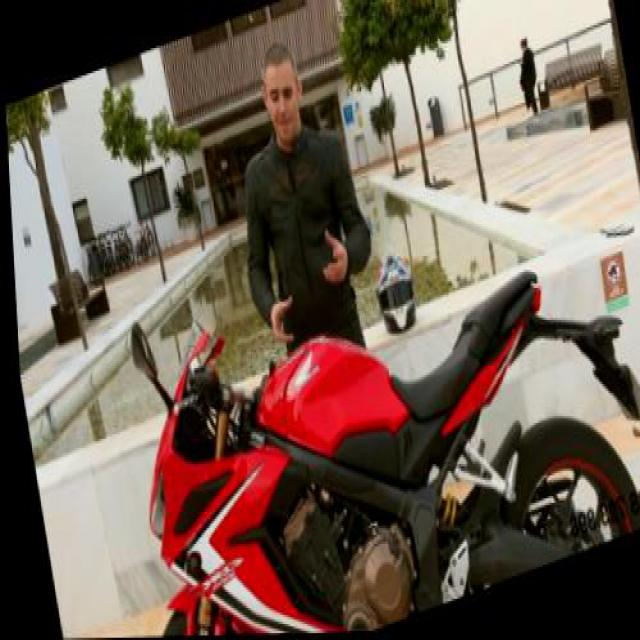CBR650R: (81, 171, 638, 638)
